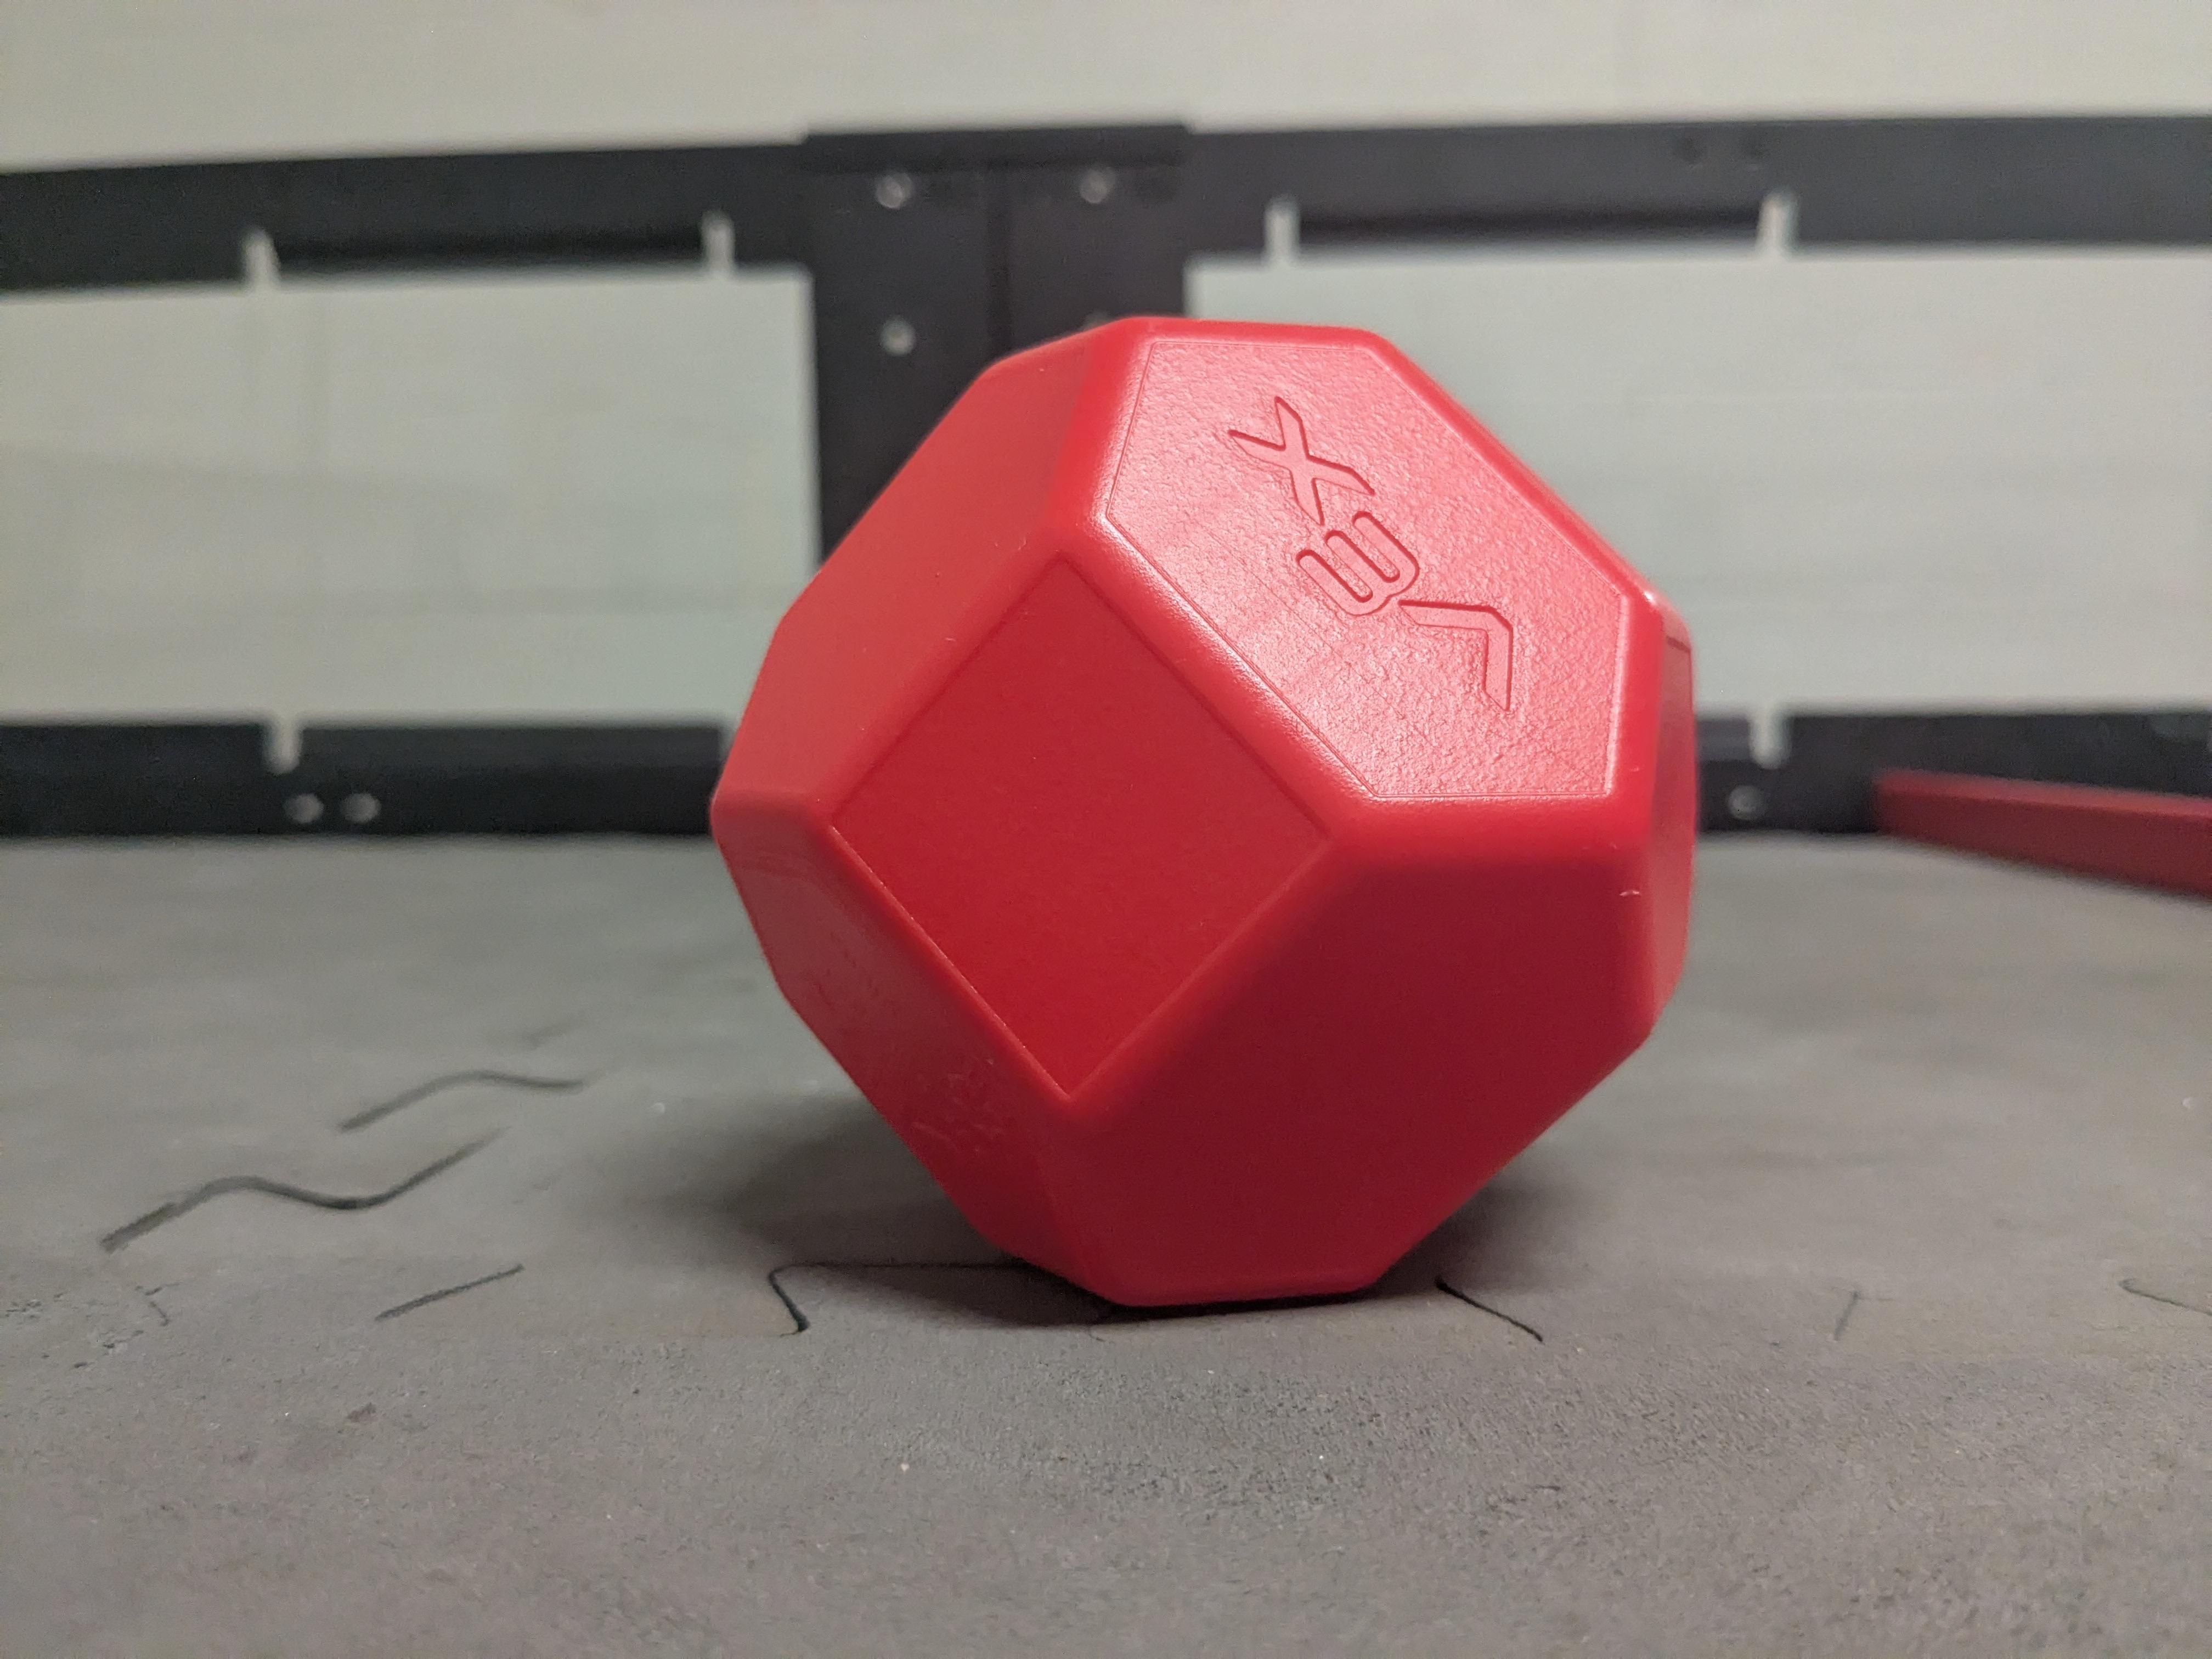Vex-Pieces-RED: (714, 321, 1695, 1305)
